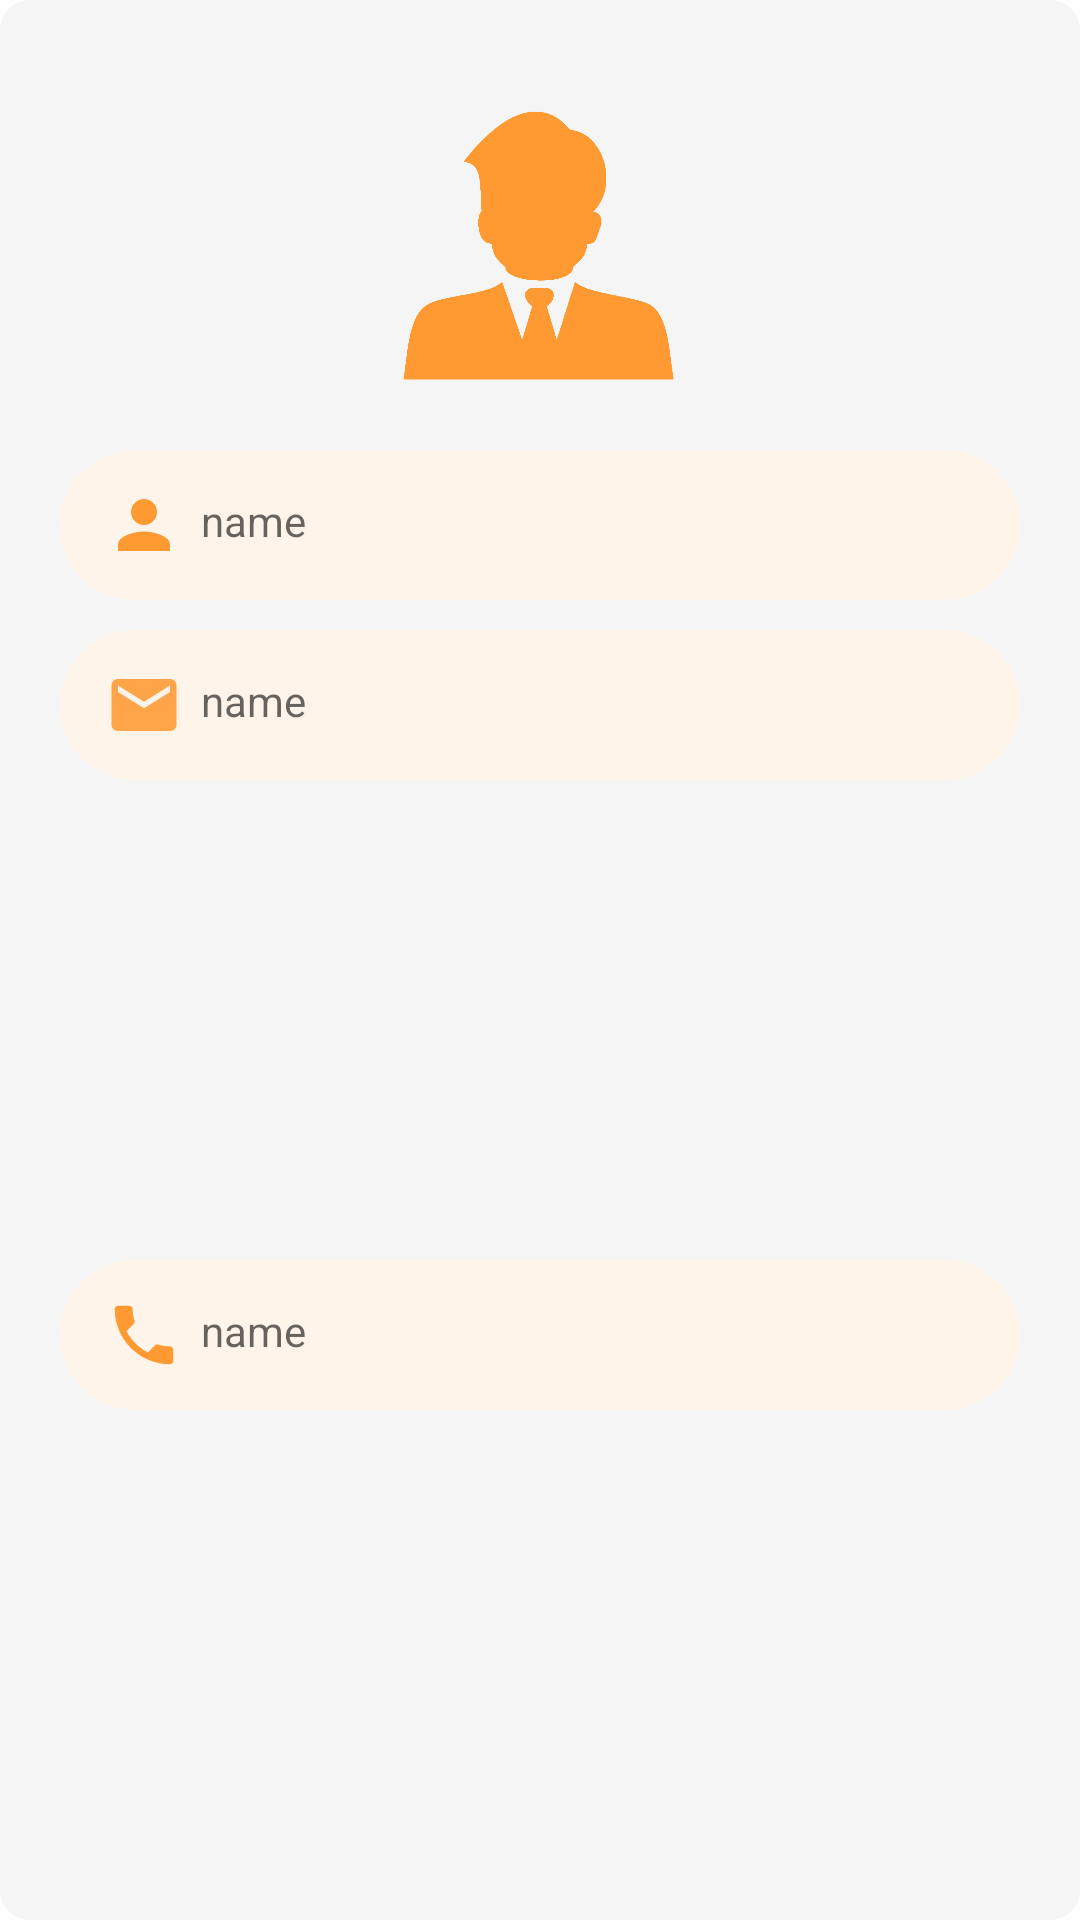

Icon bounding boxes for this 1080 × 1920 phone screenshot, format (x1, y1, x2, y2):
employee: (403, 112, 674, 380)
